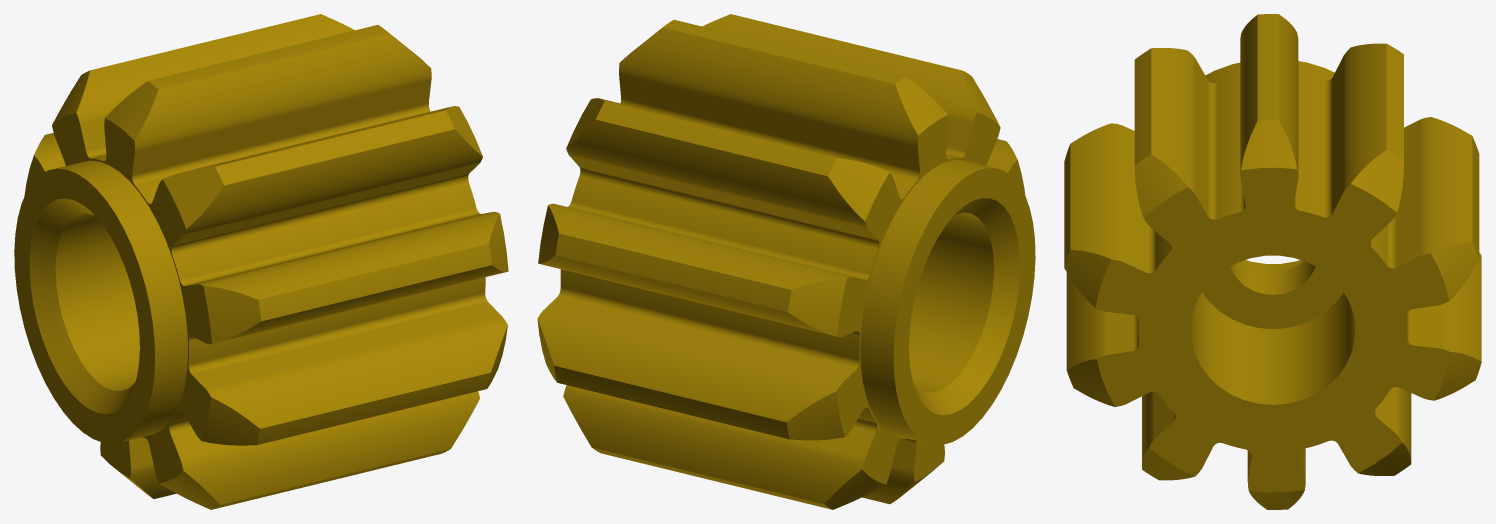
File: gear.obj
3 renders of one model, left to right at view 1: azimuth 30°, elevation 25°; view 2: azimuth 150°, elevation 25°; view 3: azimuth 270°, elevation 25°, orthographic. The views are drawn at different scales.
Parts seen in each view (by area): view 1: gear; view 2: gear; view 3: gear.
Part boxes in pixels (x1,y1,x2,y2): gear: (14, 14, 508, 509); gear: (537, 14, 1035, 509); gear: (1064, 14, 1481, 509).
Bounding box in the file's own units: 0.01 × 0.012 × 0.0116.
